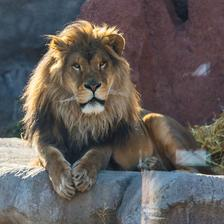Lion: (20, 20, 224, 195)
